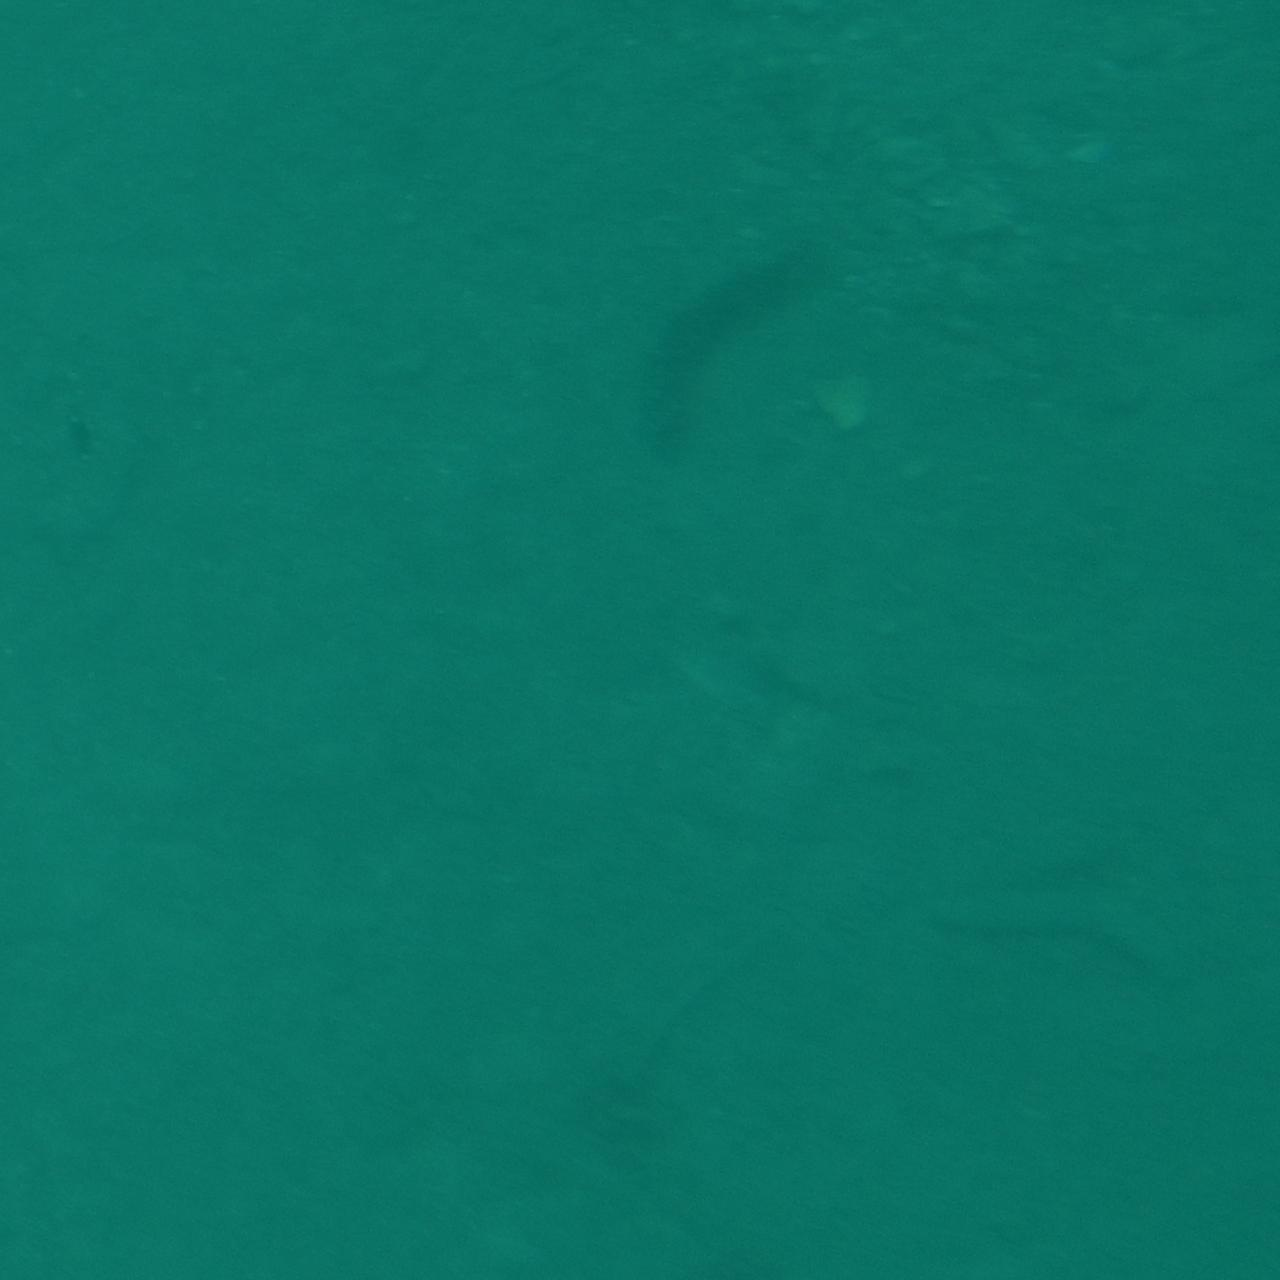Holothuria tubulosa: (626, 219, 857, 477), (897, 856, 1227, 1010)
